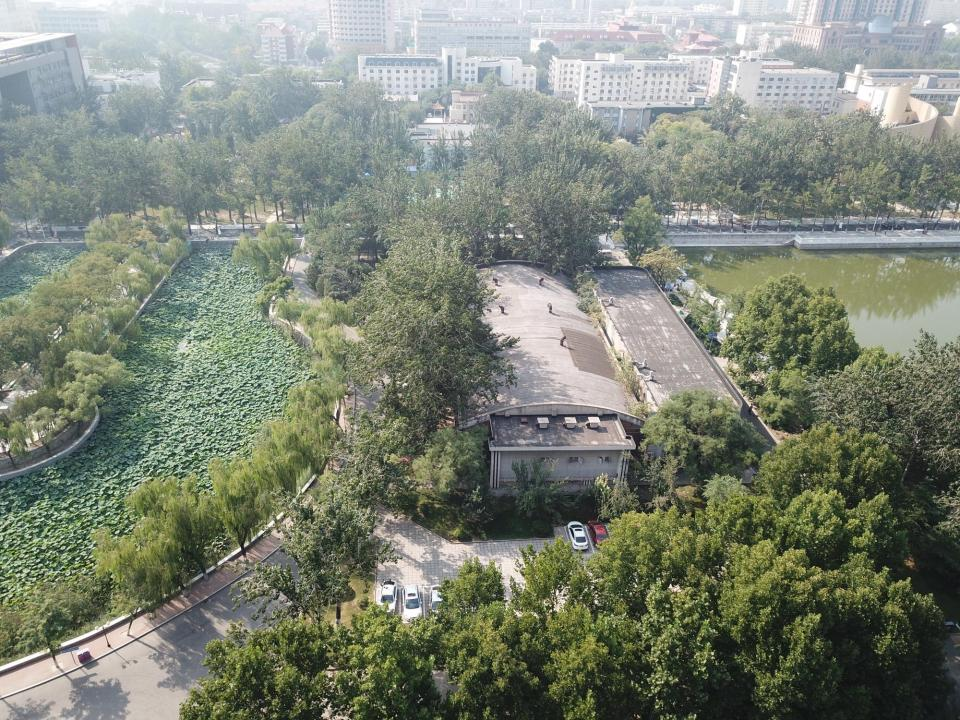car: (428, 583, 452, 625), (401, 583, 426, 623), (376, 579, 397, 621), (567, 521, 589, 549), (588, 520, 610, 548), (881, 220, 904, 230)
